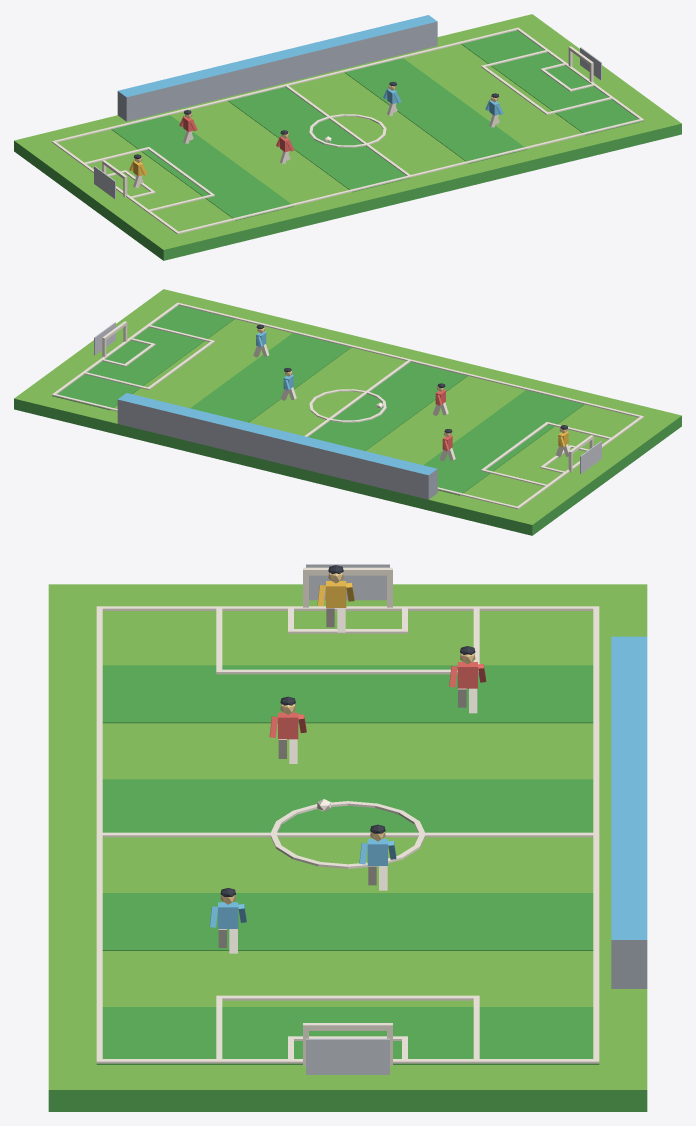
The model's file is sport_soccer.glb.
3 renders of one model, top to bottom at view 1: azimuth 30°, elevation 25°; view 2: azimuth 150°, elevation 25°; view 3: azimuth 270°, elevation 25°, orthographic. The views are drawn at different scales.
Visible parts, largest first — view 1: sport_soccer; view 2: sport_soccer; view 3: sport_soccer.
Part boxes in pixels (<box>): sport_soccer: <box>14,14,681,260</box>; sport_soccer: <box>14,289,681,535</box>; sport_soccer: <box>48,564,647,1111</box>.
Bounding box in the file's own units: 2 × 0.157 × 1.
